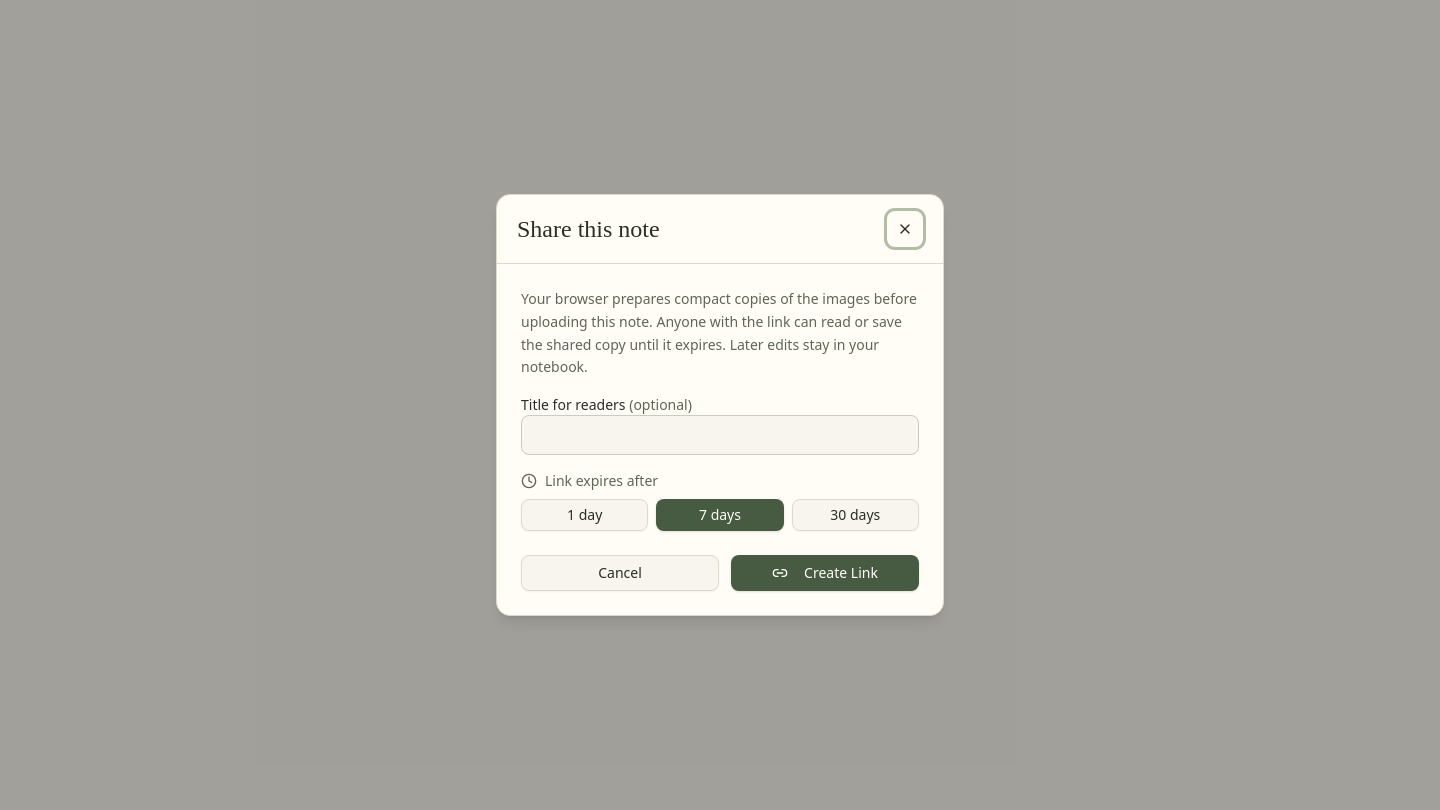
Scenario: share link dialog › submits only the prepared copy after consent and surfaces the server's size-limit message
Expected: the text "compact copies of the images" is shown, [521,289,917,331]
Step 1. Click the button "Create Link" → (825, 573), box [731,555,919,591]
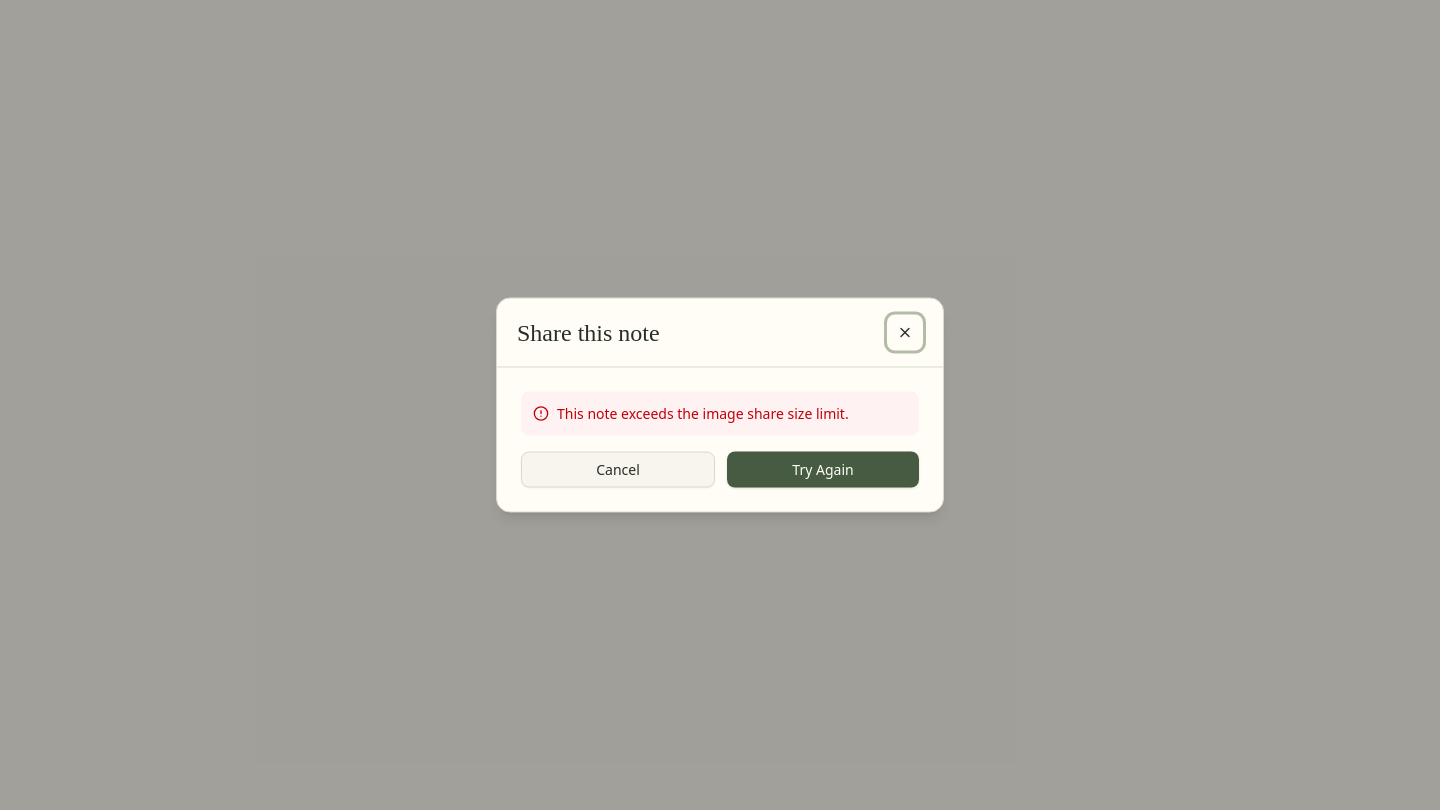
Result: the text "This note exceeds the image share size limit." is shown at [557,404,849,424]
